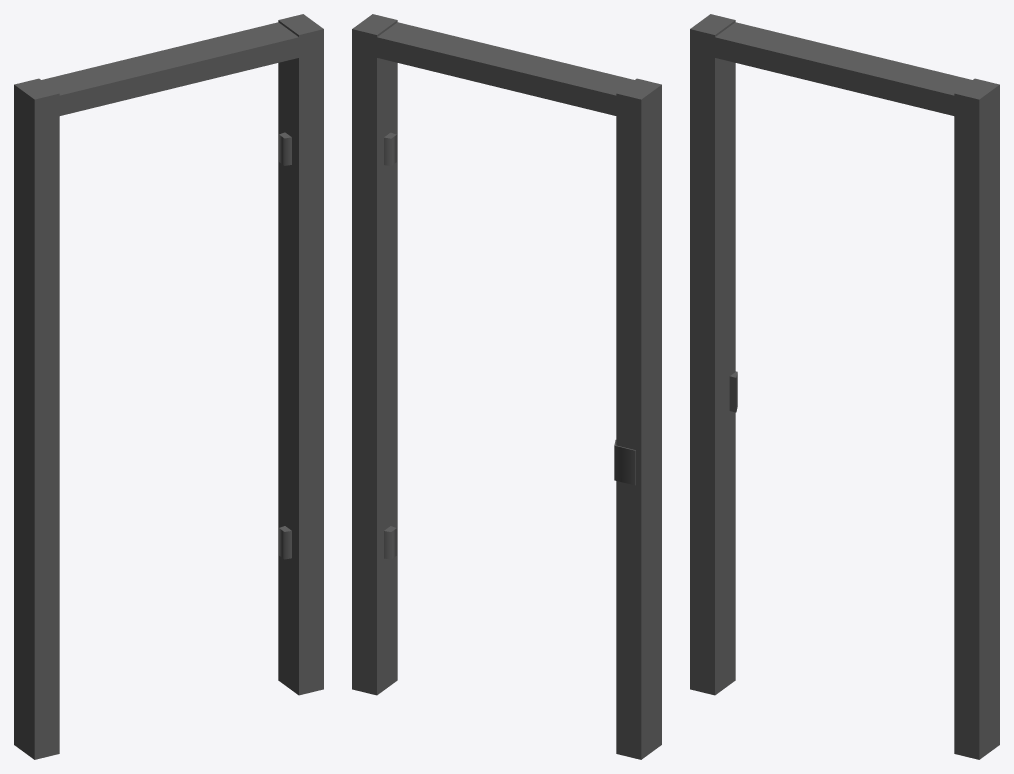
Rendered from SW_PROP_Barrier_Gateway.fbx.
3 renders of one model, left to right at view 1: azimuth 30°, elevation 25°; view 2: azimuth 150°, elevation 25°; view 3: azimuth 330°, elevation 25°, orthographic.
Visible parts, largest first — view 1: SW_PROP_Barrier_Gateway; view 2: SW_PROP_Barrier_Gateway; view 3: SW_PROP_Barrier_Gateway.
Part boxes in pixels (x1,y1,x2,y2): SW_PROP_Barrier_Gateway: (14,14,323,759); SW_PROP_Barrier_Gateway: (352,14,661,759); SW_PROP_Barrier_Gateway: (690,14,999,759).
Size of the model in its own units: 1.1 by 2.4 by 0.1405.
